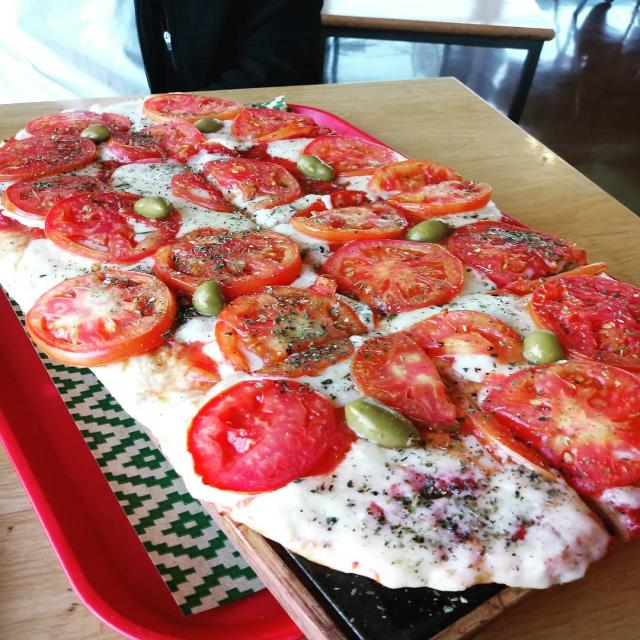green_olives: (339, 394, 428, 451), (178, 273, 231, 319), (291, 150, 343, 187), (519, 326, 565, 366), (128, 190, 178, 222), (406, 213, 451, 244), (69, 117, 112, 149), (189, 111, 225, 136)
pizza: (0, 89, 640, 584)
tomatoes: (465, 352, 640, 490), (185, 379, 346, 491), (23, 268, 175, 364), (320, 233, 463, 320), (215, 286, 368, 365), (527, 271, 640, 369), (449, 216, 602, 288), (152, 224, 305, 296), (352, 328, 464, 426), (46, 188, 186, 262), (159, 150, 307, 212), (368, 156, 493, 218), (462, 411, 566, 482), (292, 188, 421, 245), (394, 310, 524, 362), (110, 121, 248, 162), (308, 134, 410, 182), (9, 169, 116, 214), (0, 135, 99, 181), (234, 106, 342, 146), (134, 90, 246, 122), (34, 109, 133, 142)
